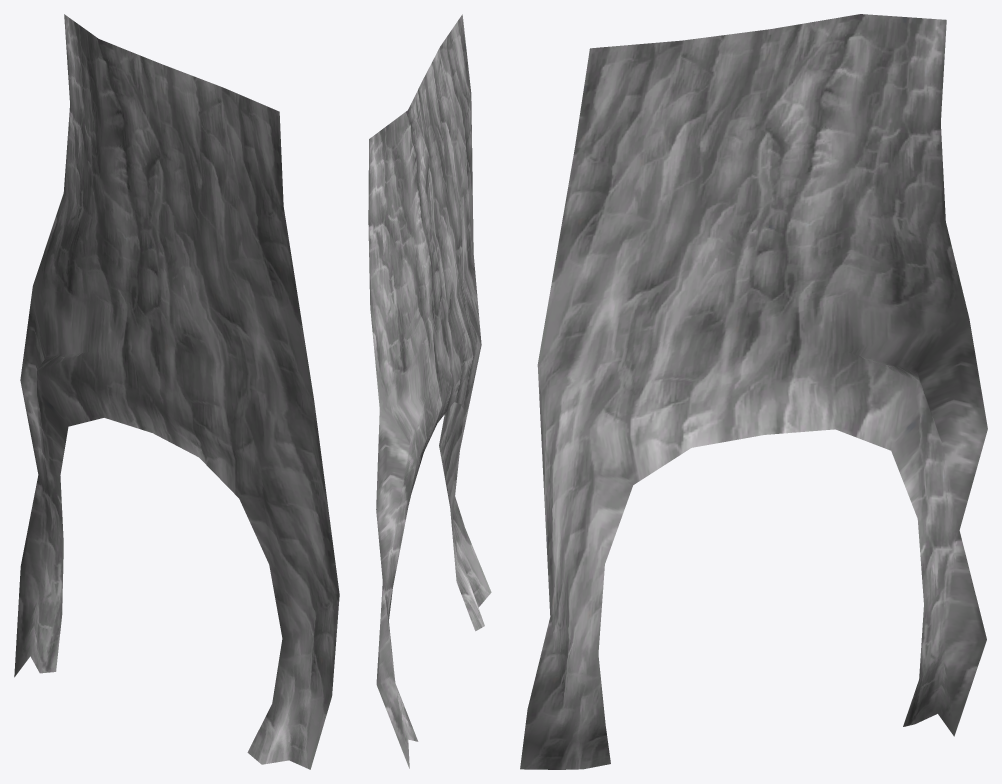
File: SWORDLIGHT20_PS-AREA03_207.fbx
3 renders of one model, left to right at view 1: azimuth 30°, elevation 25°; view 2: azimuth 150°, elevation 25°; view 3: azimuth 270°, elevation 25°, orthographic. The views are drawn at different scales.
Visible parts, largest first — view 1: SWORDLIGHT20_PS-AREA03_207; view 2: SWORDLIGHT20_PS-AREA03_207; view 3: SWORDLIGHT20_PS-AREA03_207.
Boxes of the visible parts, x1,y1,x2,y2 form: SWORDLIGHT20_PS-AREA03_207: (14,14,339,769); SWORDLIGHT20_PS-AREA03_207: (368,14,491,768); SWORDLIGHT20_PS-AREA03_207: (520,14,987,769).
Bounding box in the file's own units: 38660 × 165255 × 93836.
Materials: 1 (1 with a texture image).
